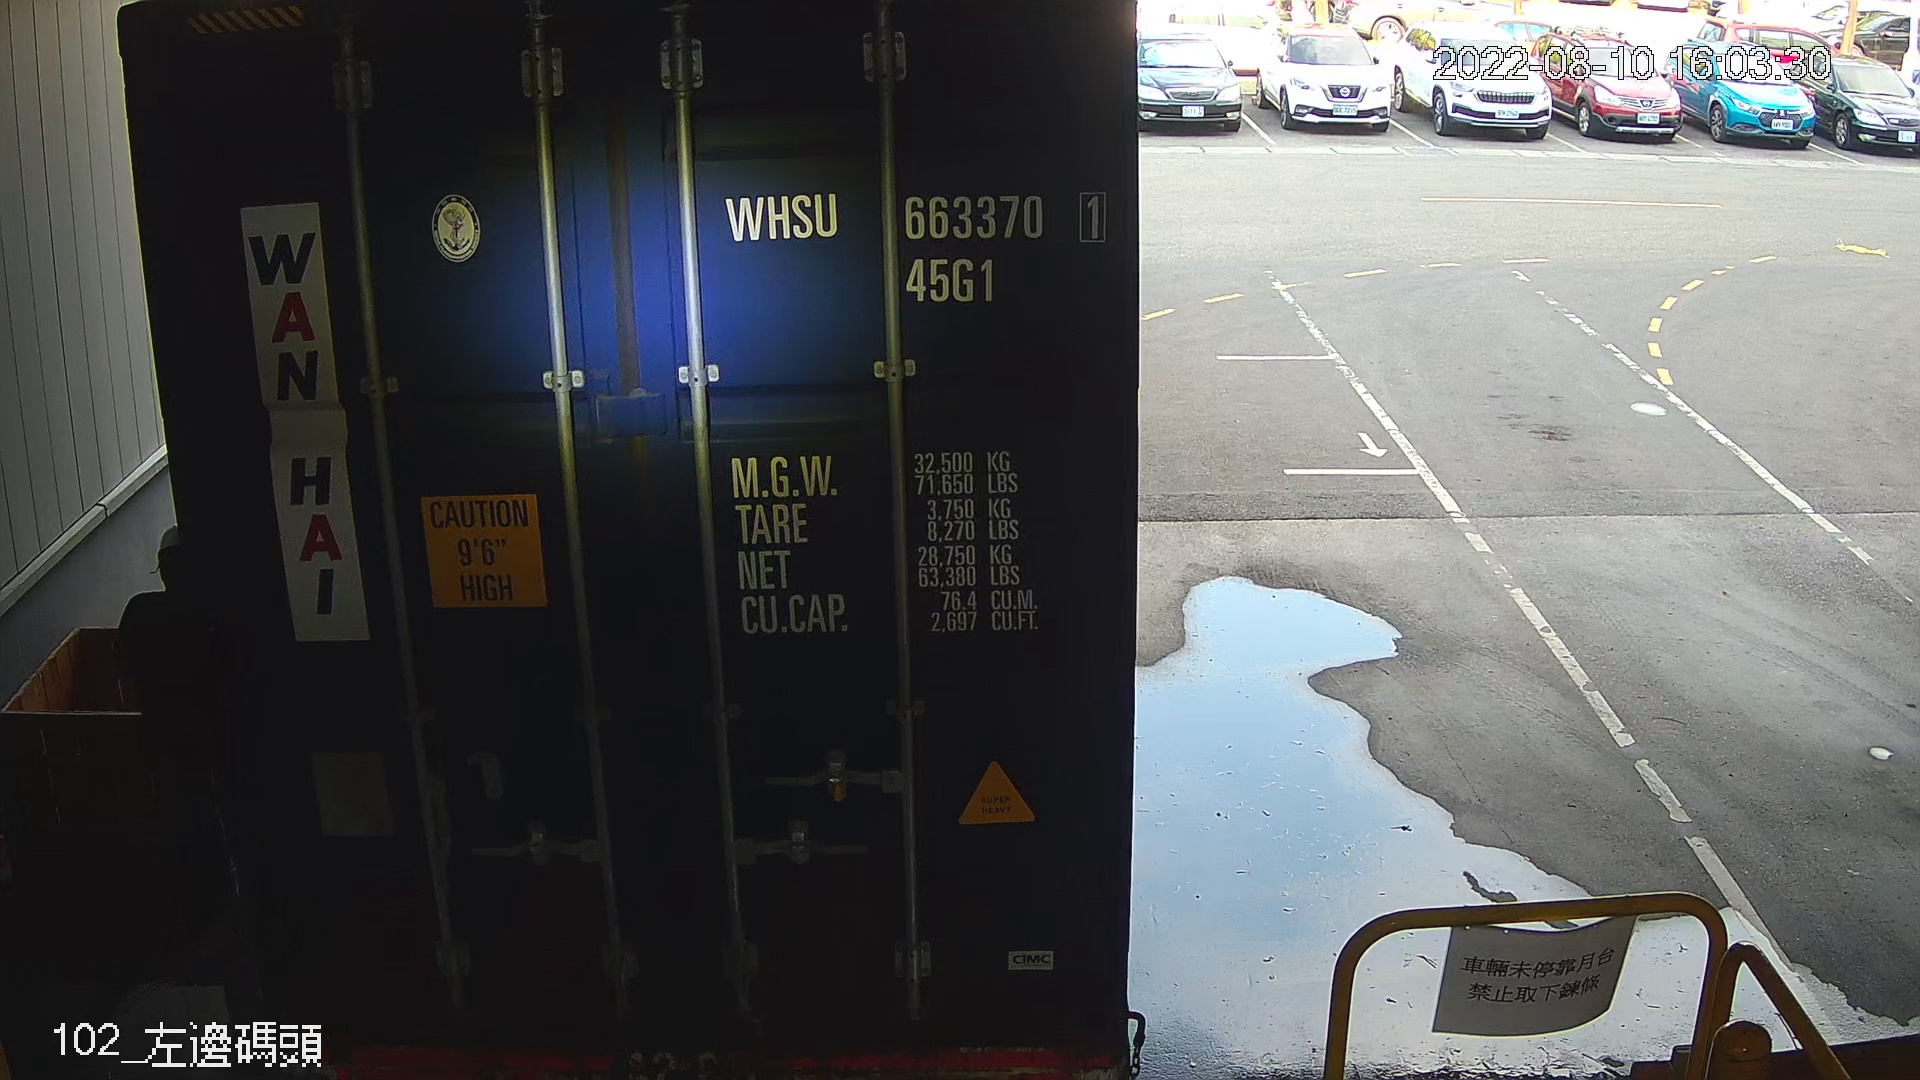container: (709, 179, 1122, 316)
